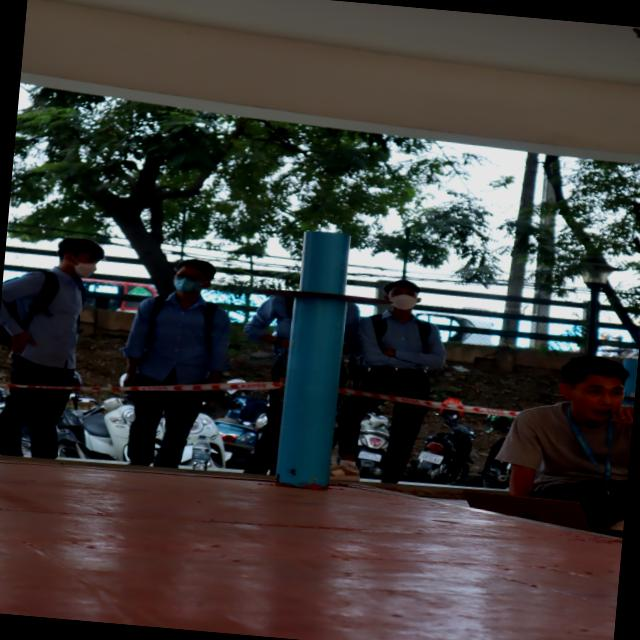pole: (254, 218, 400, 364)
